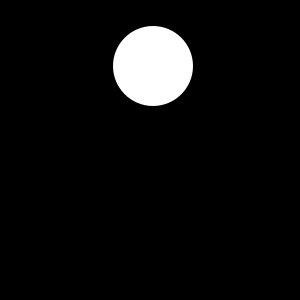rectangle: (113, 26, 193, 106)
